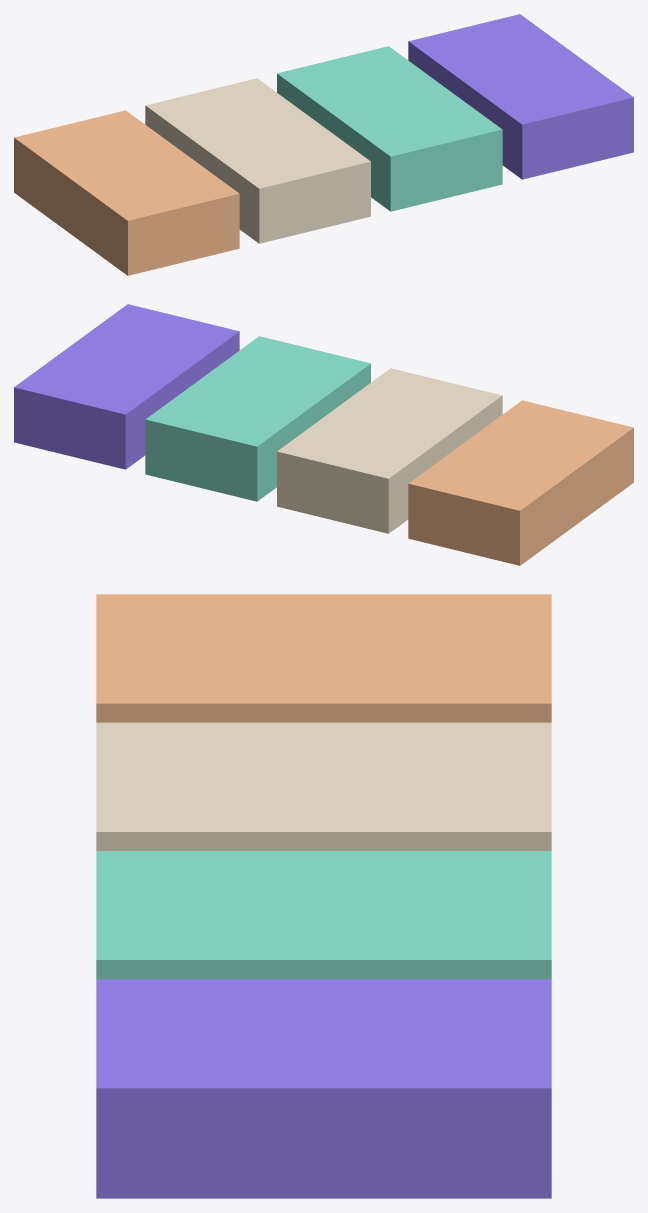
3 views of the same model, one above another, from view 1: azimuth 30°, elevation 25°; view 2: azimuth 150°, elevation 25°; view 3: azimuth 270°, elevation 25° (orthographic). The views are drawn at different scales.
Visible parts, largest first — view 1: Material swatch, Material swatch.001, Material swatch.002, Material swatch.003; view 2: Material swatch, Material swatch.001, Material swatch.002, Material swatch.003; view 3: Material swatch.003, Material swatch, Material swatch.001, Material swatch.002.
Part boxes in pixels (x1=…): Material swatch: x1=14, y1=110, x2=239, y2=275; Material swatch.001: x1=145, y1=78, x2=370, y2=243; Material swatch.002: x1=277, y1=46, x2=502, y2=211; Material swatch.003: x1=408, y1=14, x2=633, y2=179; Material swatch: x1=408, y1=400, x2=633, y2=565; Material swatch.001: x1=277, y1=368, x2=502, y2=533; Material swatch.002: x1=145, y1=336, x2=370, y2=501; Material swatch.003: x1=14, y1=304, x2=239, y2=469; Material swatch.003: x1=96, y1=979, x2=551, y2=1198; Material swatch: x1=96, y1=594, x2=551, y2=722; Material swatch.001: x1=96, y1=722, x2=551, y2=850; Material swatch.002: x1=96, y1=851, x2=551, y2=979.
Size of the model in its own units: 38.5 by 4 by 15.
